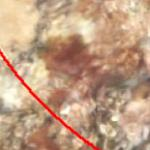alive: (11, 8, 147, 146)
